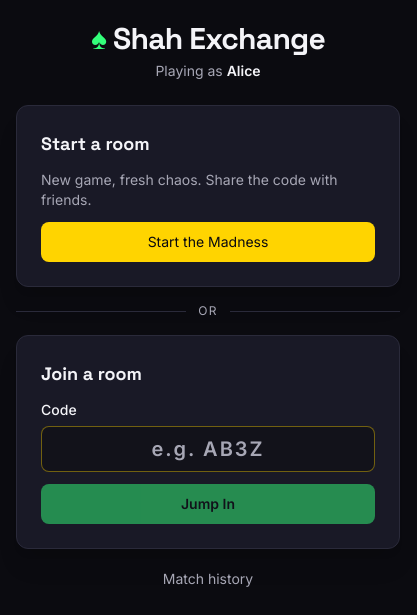
it: LobbyPage › shows "Room is full" on 409 conflict with full message
The width and height of the screenshot is (417, 615).
In the field labelled "Code": (208, 449) [41, 426, 375, 472], type "ABCD"
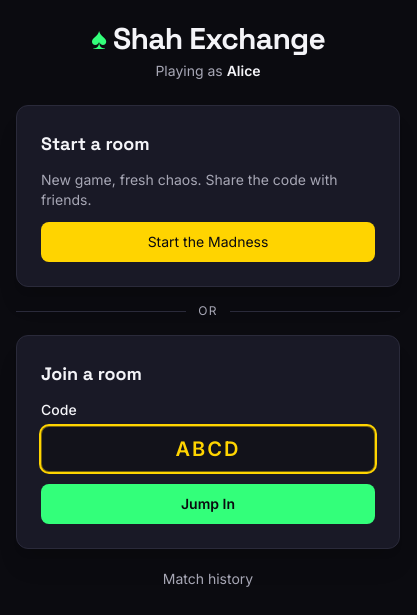
Click the button with aria-label "join room": click(208, 504) [41, 484, 375, 524]
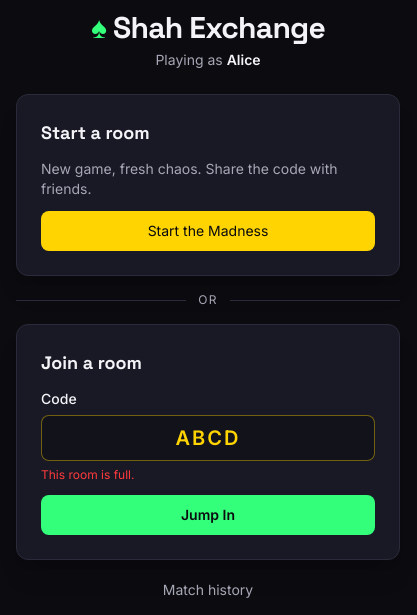
Expected: the message shows "full", [41, 467, 134, 482]
